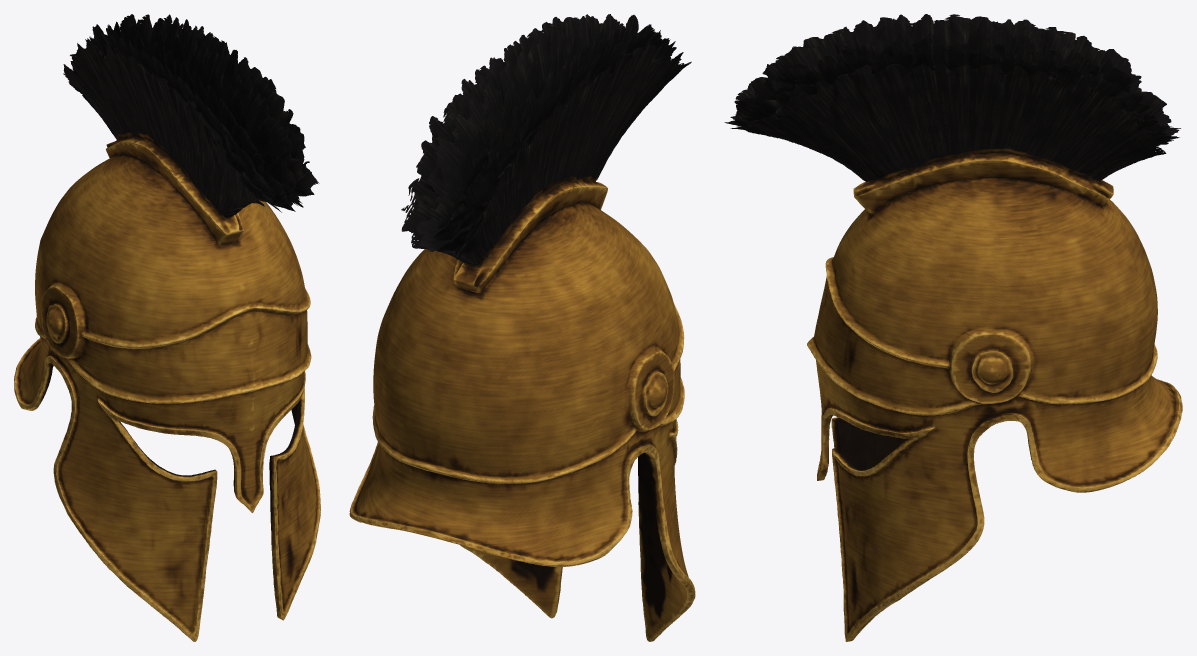
Rendered from Chalcidian.glb.
The picture shows the model from 3 angles, left to right: view 1: azimuth 30°, elevation 25°; view 2: azimuth 150°, elevation 25°; view 3: azimuth 270°, elevation 25°; orthographic projection. The views are drawn at different scales.
Parts seen in each view (by area): view 1: model; view 2: model; view 3: model.
Part boxes in pixels (x1,y1,x2,y2): model: [14, 14, 320, 641]; model: [349, 14, 695, 641]; model: [724, 14, 1182, 641].
Bounding box in the file's own units: 0.8131 × 1.74 × 1.22.
1 material, 1 textured.
